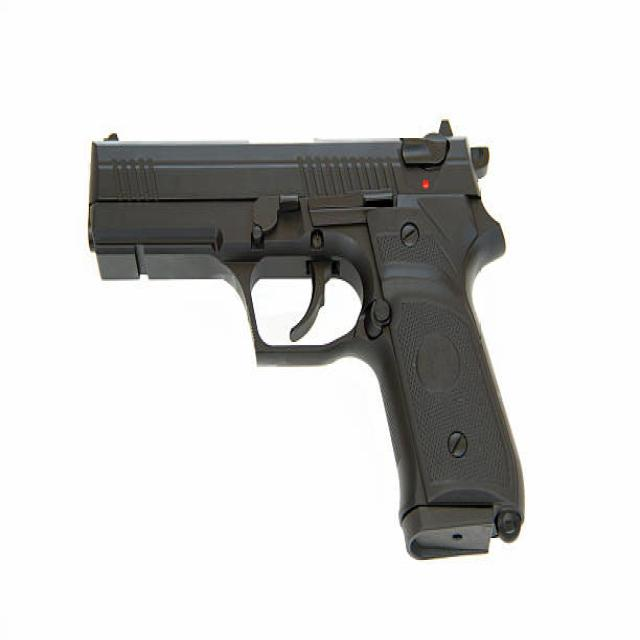pistol: (82, 108, 534, 566)
